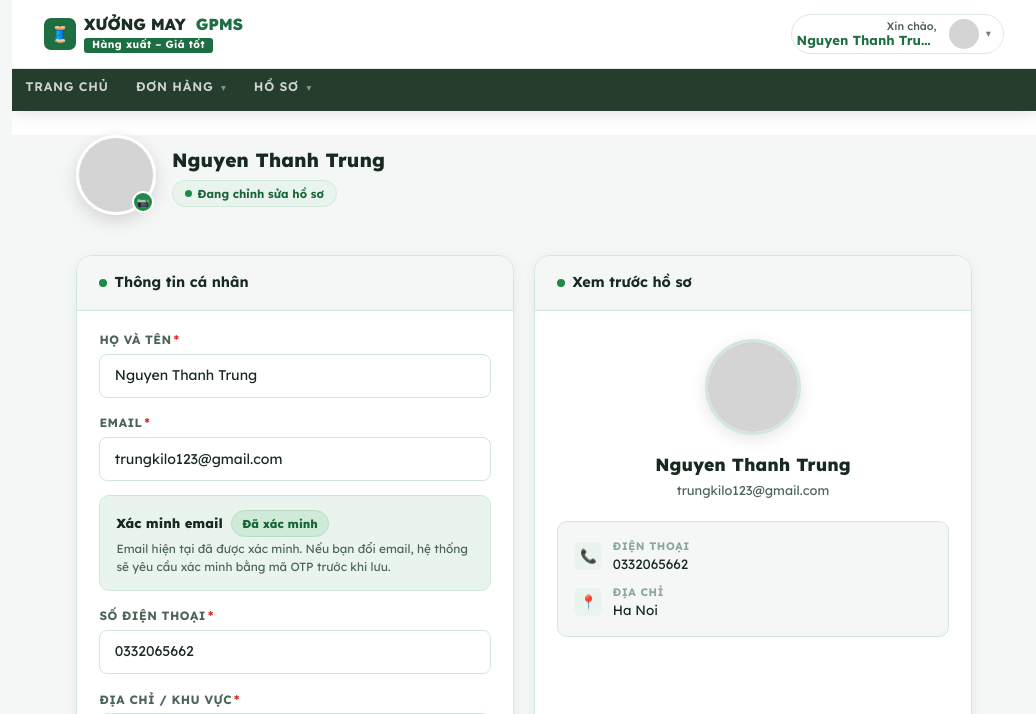
ProfileEdit › treats 'already verified' as a successful OTP verification on profile edit
This screenshot has width=1036, height=714.
Expected: the field named "FullName" below "Họ và tên" is shown, [99, 354, 491, 398]
Replace the text in the 2nd field named "Email" with "newmail@example.com": point(295, 459) [99, 437, 491, 481]
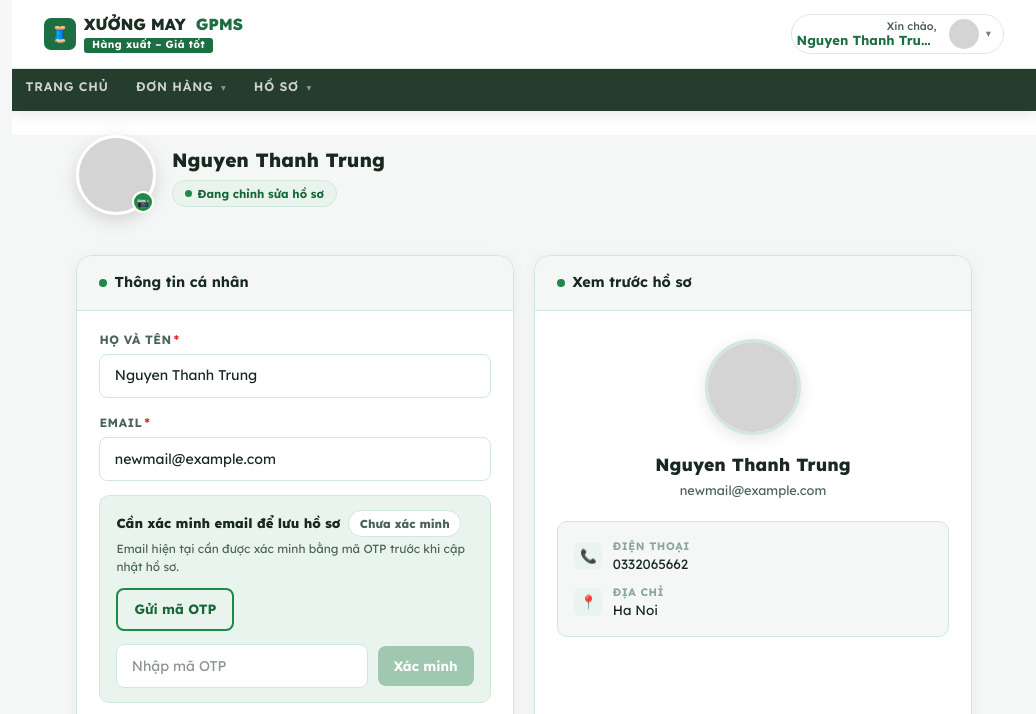
In the field with placeholder "Nhập mã OTP": point(242, 666) [116, 644, 368, 688], type "123456"
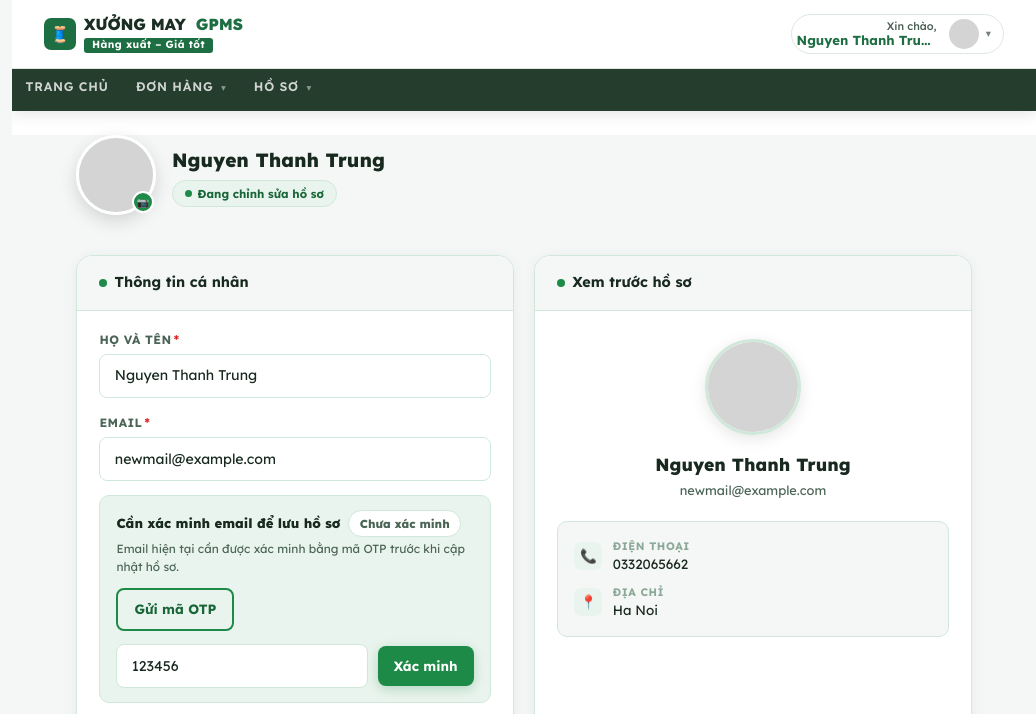
Click the button "Xác minh": point(426, 666) [378, 646, 474, 686]
(page scrolled)
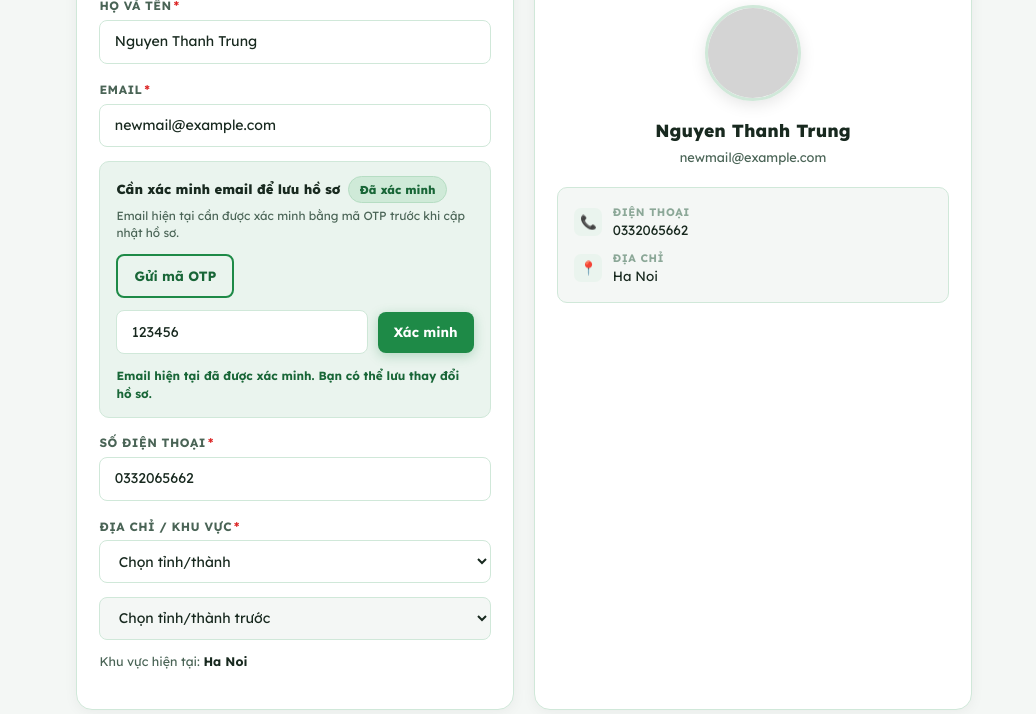
Now the text "Đã xác minh" is shown, box [348, 176, 447, 203]
Now the text "Email hiện tại đã được xác minh. Bạn có thể lưu thay đổi hồ sơ." is shown, box [116, 367, 474, 403]
